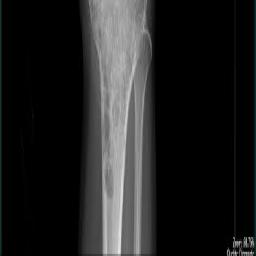cancer: (92, 22, 131, 202)
